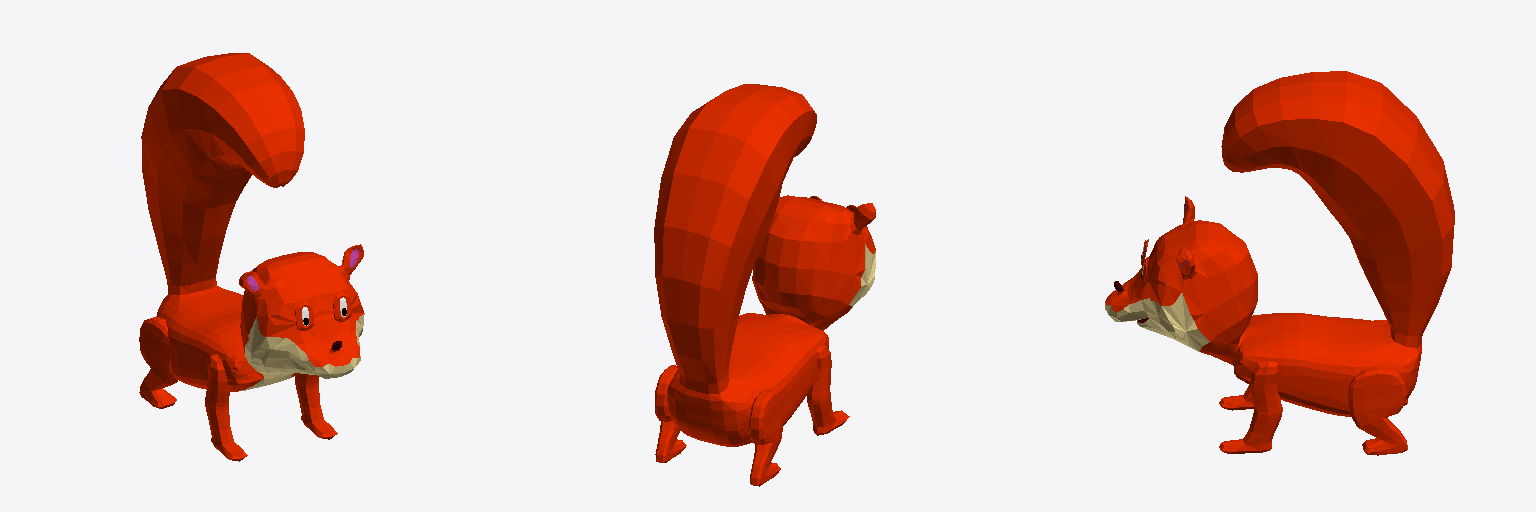
The model's file is swt.obj.
3 views of the same model, side by side, from view 1: azimuth 30°, elevation 25°; view 2: azimuth 150°, elevation 25°; view 3: azimuth 270°, elevation 25° (orthographic).
Visible parts, largest first — view 1: Cube_Material, Cube_Material.0012, Cube.004_Material.007, Cube.002_Material.006, Cube.001_Material.0062; view 2: Cube_Material, Cube.004_Material.007, Cube.002_Material.006, Cube.003_Material.0072, Cube_Material.0012; view 3: Cube_Material, Cube.003_Material.0072, Cube.001_Material.0062, Cube_Material.0012.
Boxes of the visible parts, x1,y1,x2,y2 form: Cube_Material: [141, 53, 363, 391]; Cube_Material.0012: [238, 313, 364, 391]; Cube.004_Material.007: [139, 316, 177, 408]; Cube.002_Material.006: [205, 354, 247, 461]; Cube.001_Material.0062: [295, 373, 337, 439]; Cube_Material: [654, 84, 875, 446]; Cube.004_Material.007: [749, 389, 782, 486]; Cube.002_Material.006: [807, 345, 849, 435]; Cube.003_Material.0072: [655, 365, 686, 462]; Cube_Material.0012: [849, 244, 875, 309]; Cube_Material: [1105, 71, 1454, 416]; Cube.003_Material.0072: [1348, 366, 1407, 455]; Cube.001_Material.0062: [1219, 361, 1282, 453]; Cube_Material.0012: [1105, 293, 1209, 351].
Bounding box in the file's own units: 2.46 × 6.66 × 6.07.